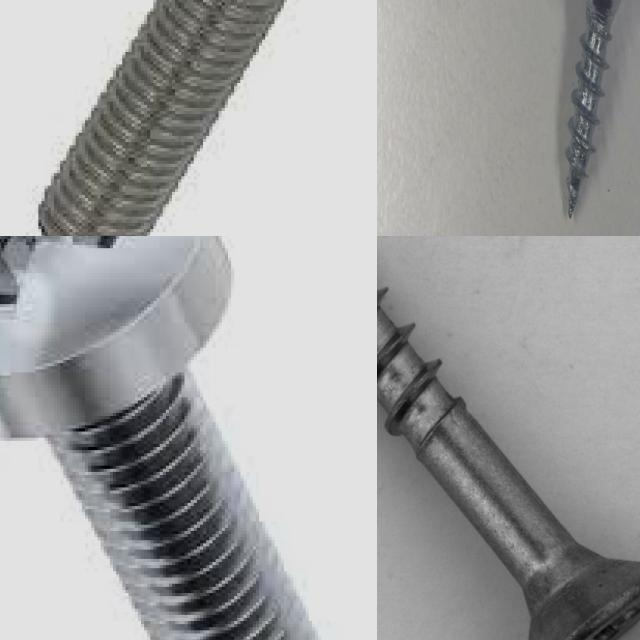Screw: (0, 236, 324, 640), (377, 236, 640, 640), (39, 0, 291, 236), (566, 0, 622, 217)
